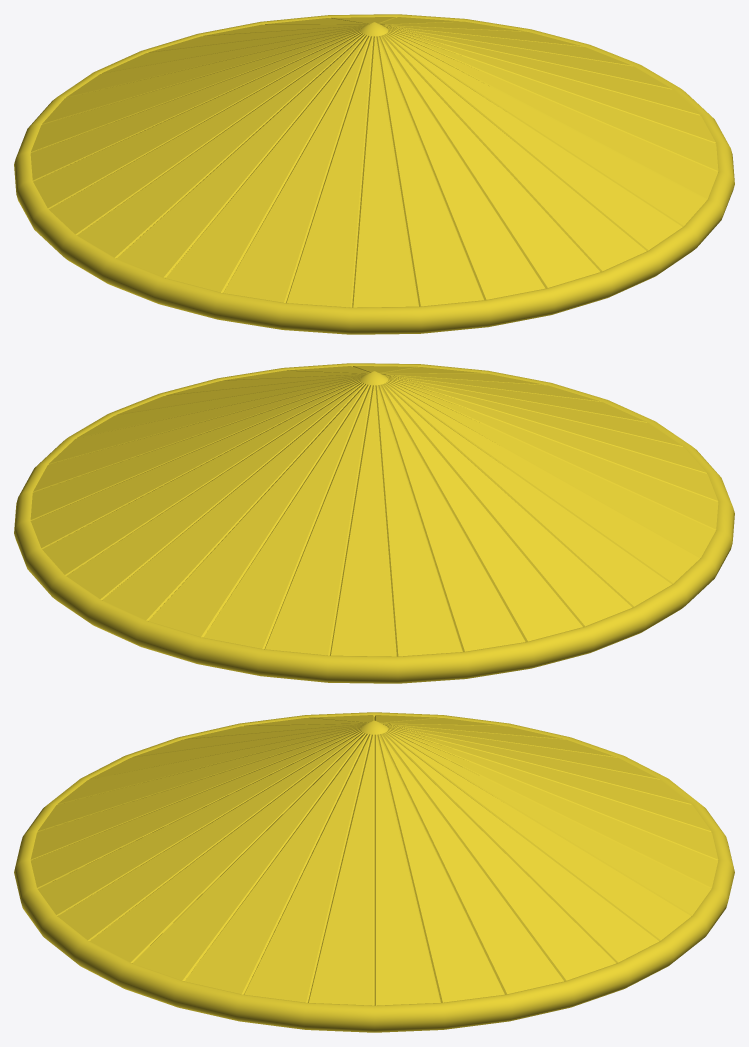
The model's file is Straw Hat.fbx.
3 views of the same model, one above another, from view 1: azimuth 30°, elevation 25°; view 2: azimuth 150°, elevation 25°; view 3: azimuth 270°, elevation 25° (orthographic).
Visible parts, largest first — view 1: Cone, Circle; view 2: Cone, Circle; view 3: Cone, Circle.
Boxes of the visible parts, left/top/right/bottom form: Cone: left=30, top=17, right=718, bottom=307; Circle: left=14, top=14, right=734, bottom=334; Cone: left=30, top=366, right=718, bottom=656; Circle: left=14, top=363, right=734, bottom=683; Cone: left=30, top=715, right=718, bottom=1005; Circle: left=14, top=712, right=734, bottom=1032.
Size of the model in its own units: 628 by 158 by 628.
